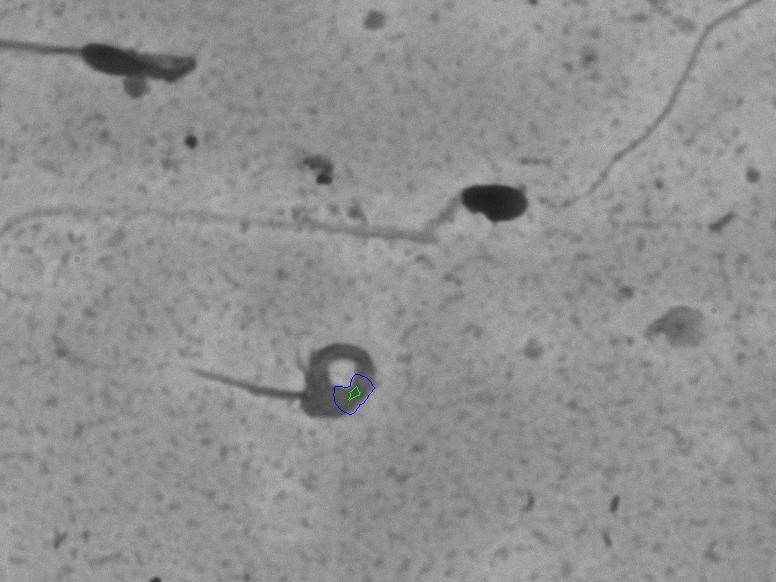Abnormal: (2, 126, 543, 308), (8, 14, 241, 116)
